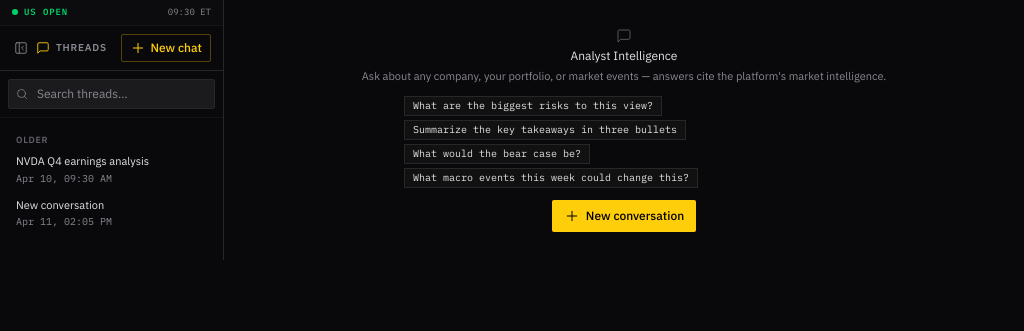
Test: Chat page — entity context badge › entity-context-badge: badge shown when entity_id URL param is set
Click the button with aria-label "start new chat".
click(166, 48)  # box [121, 34, 211, 62]
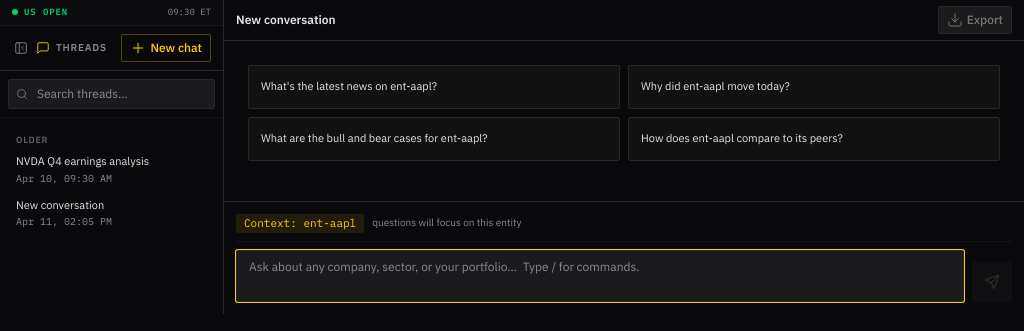
Result: the text "Context: ent-aapl" is shown at [236, 214, 364, 233]
